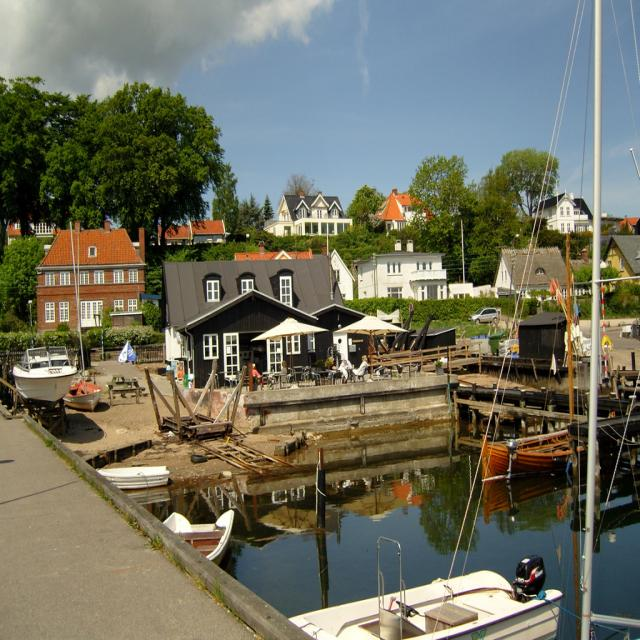Boat: (291, 0, 639, 639), (482, 230, 570, 486), (11, 297, 78, 402), (66, 220, 102, 412), (164, 508, 236, 567), (96, 462, 172, 491)
